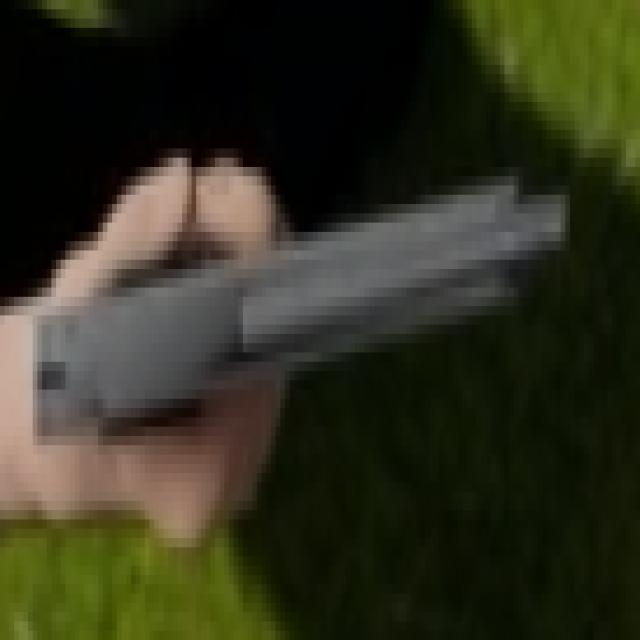Pistol: (13, 130, 578, 494)
